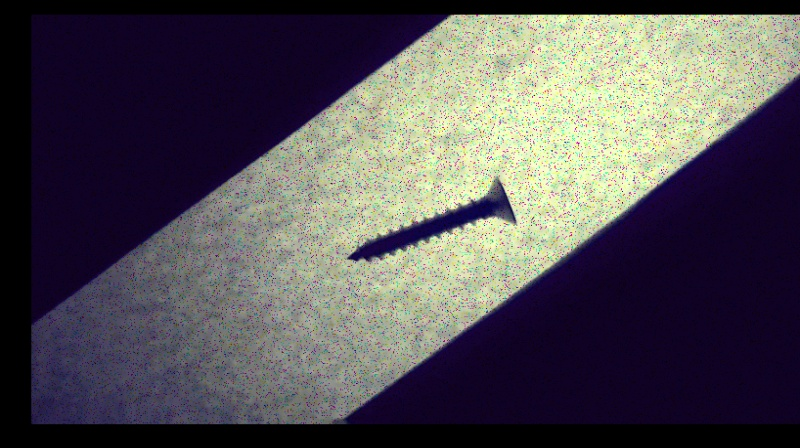S001: (340, 172, 518, 264)
